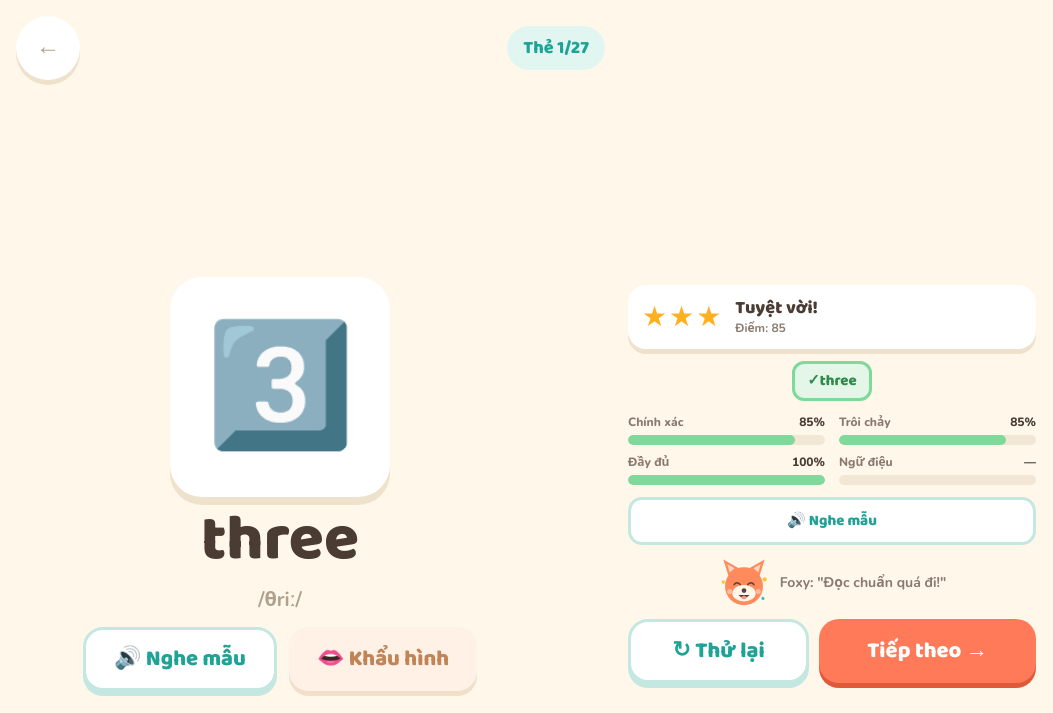
Test: Tiếp theo goes to the next card of the same level
The image size is (1053, 713).
Click the link "Tiếp theo →" at coordinates (928, 651), box [819,619,1036,683]
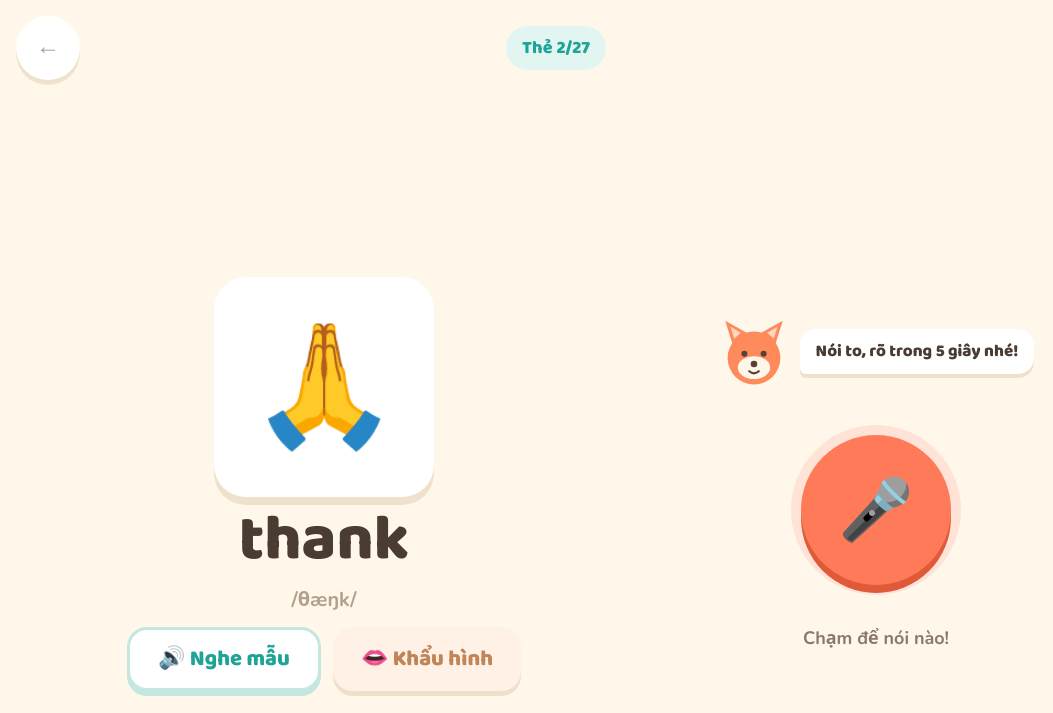
expect the text "thank" is shown: met, box [239,509,409,573]
